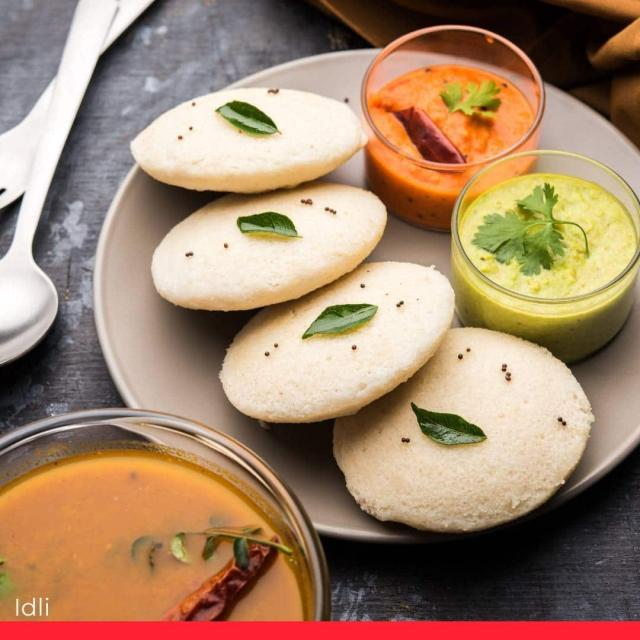IDLI: (334, 328, 594, 532), (219, 262, 453, 422), (152, 183, 386, 311), (131, 88, 366, 193)
